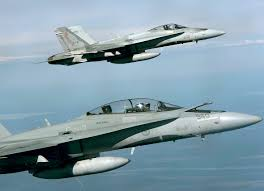fighter: (1, 94, 263, 181), (41, 16, 229, 73)
